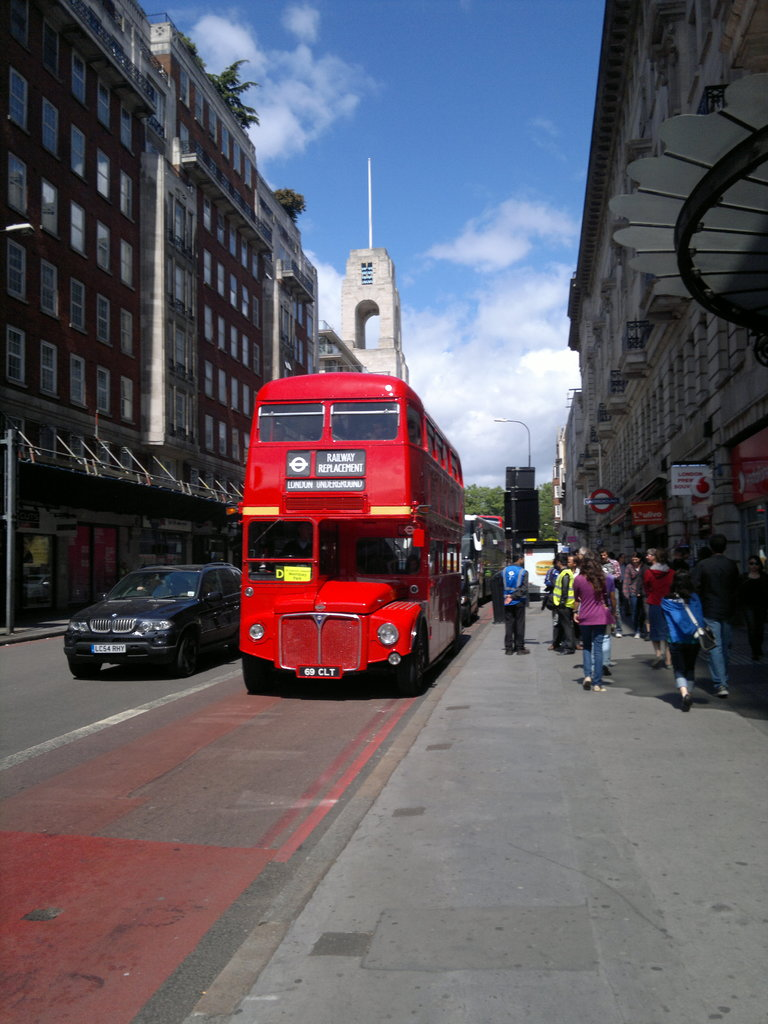Car: (58, 537, 233, 687), (460, 561, 480, 628)
